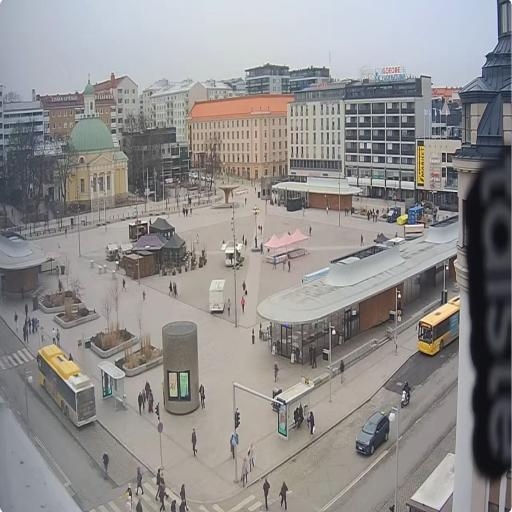bus: (37, 342, 99, 434), (414, 292, 464, 363)
car: (353, 410, 392, 458), (206, 175, 215, 185), (189, 171, 199, 180), (201, 172, 207, 182)
two-wheeler: (400, 379, 412, 408)
